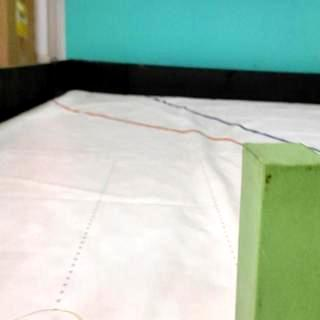greenbox: (237, 141, 320, 320)
